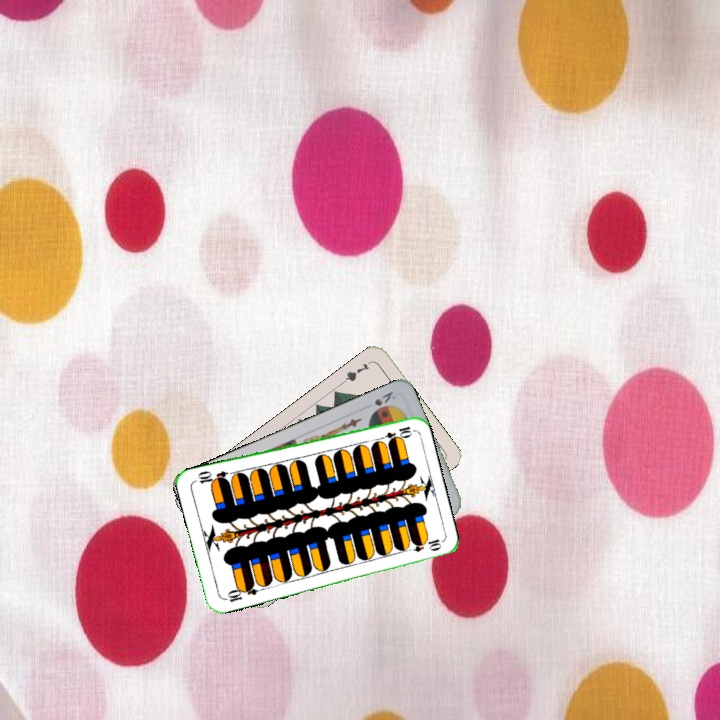E10: (220, 580, 260, 605), (374, 422, 414, 444)
G7: (339, 359, 372, 386)
SK: (370, 387, 398, 409)
